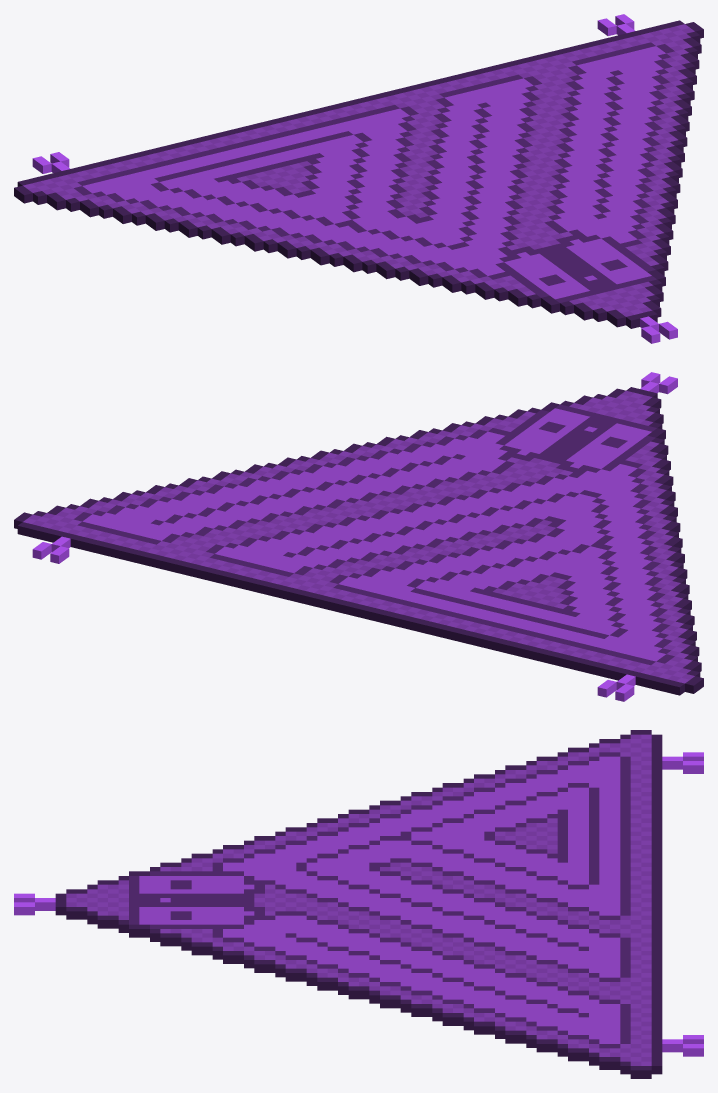
File: CSG1N4S8.glb
3 renders of one model, top to bottom at view 1: azimuth 30°, elevation 25°; view 2: azimuth 150°, elevation 25°; view 3: azimuth 270°, elevation 25°, orthographic. The views are drawn at different scales.
Parts seen in each view (by area): view 1: Curve.1194; view 2: Curve.1194; view 3: Curve.1194.
Boxes of the visible parts, box(x1,y1,x2,y2) form: Curve.1194: box(14, 14, 703, 343); Curve.1194: box(14, 372, 703, 701); Curve.1194: box(14, 730, 703, 1078).
Size of the model in its own units: 1.05 by 0.0123 by 0.899.
